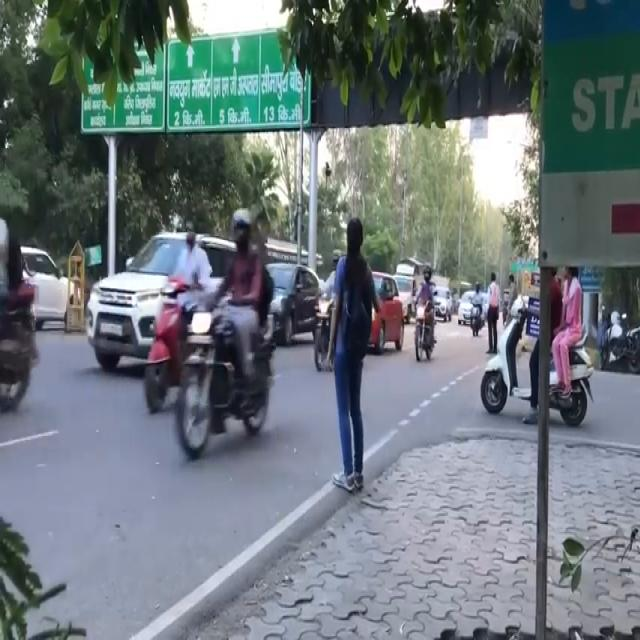MOTORCYCLE: (481, 293, 590, 420), (179, 306, 273, 453), (416, 297, 438, 361)
